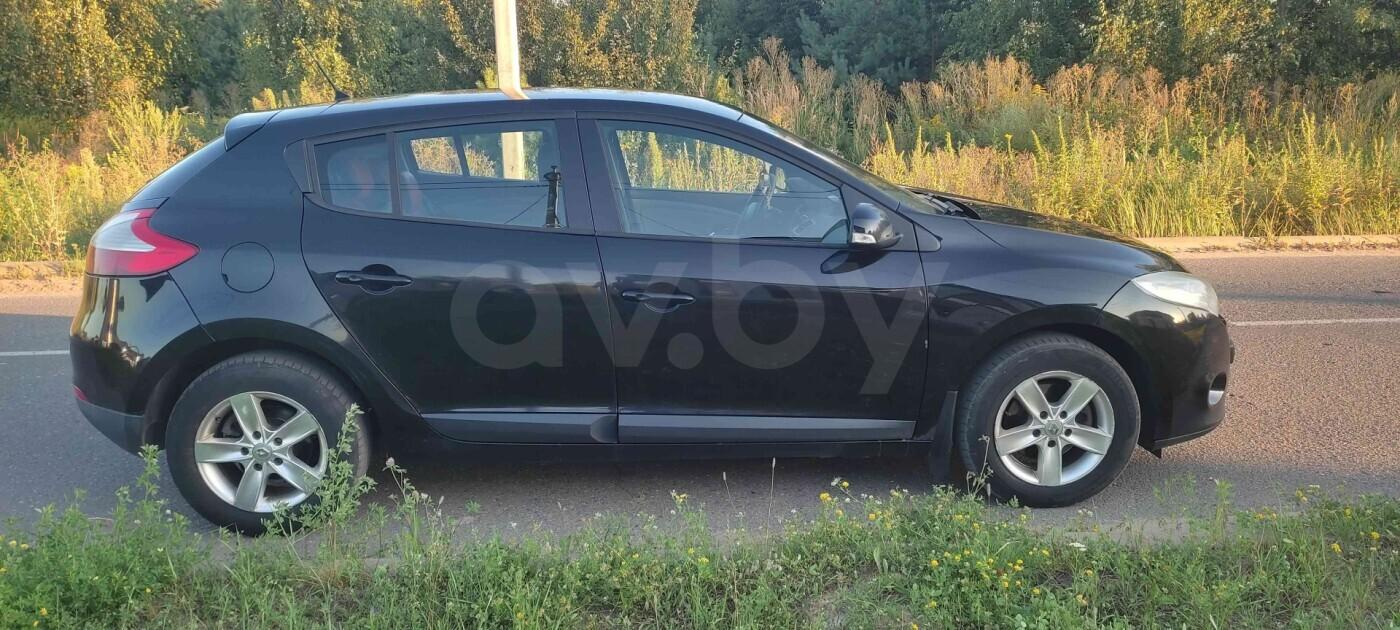Megane_2008-2014: (59, 84, 1243, 529)
